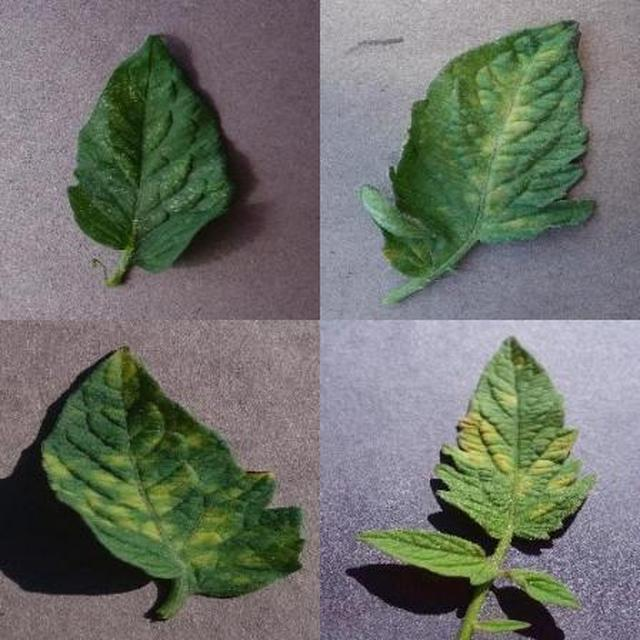Spider Mites Leaf: (183, 80, 640, 640)
